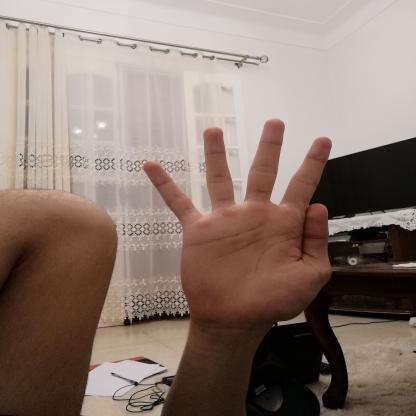SHEEN: (129, 107, 358, 339)
